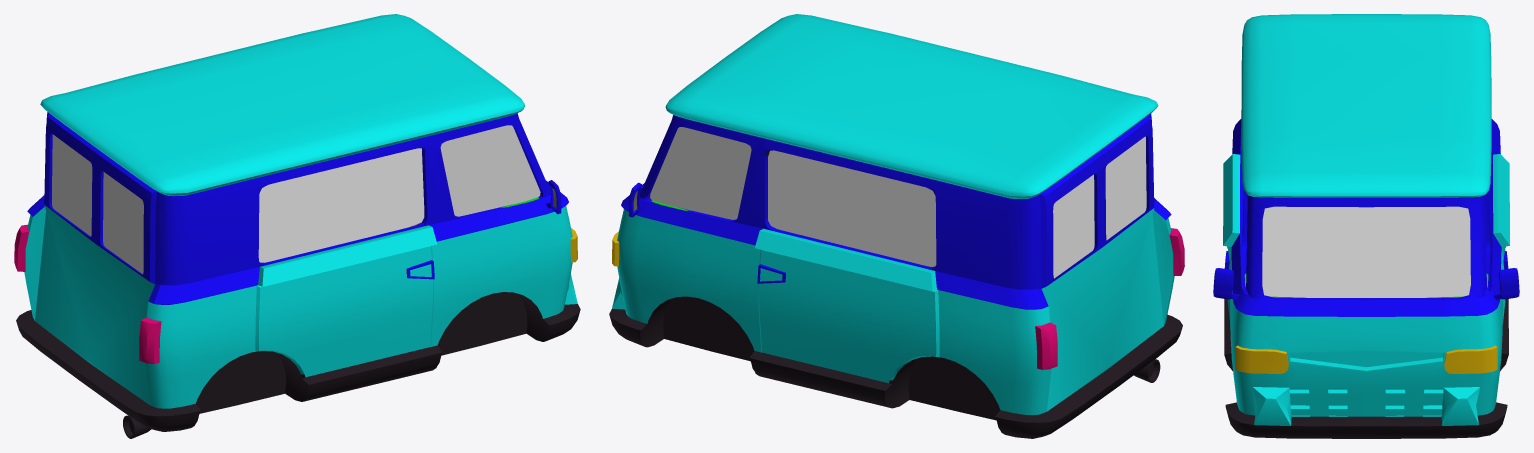
File: vanww.fbx
The picture shows the model from 3 angles, left to right: view 1: azimuth 30°, elevation 25°; view 2: azimuth 150°, elevation 25°; view 3: azimuth 270°, elevation 25°; orthographic projection. The views are drawn at different scales.
Parts seen in each view (by area): view 1: Van.002; view 2: Van.002; view 3: Van.002.
Part boxes in pixels (box(x1,y1,x2,y2)): Van.002: box(14, 14, 580, 438); Van.002: box(609, 14, 1184, 438); Van.002: box(1213, 14, 1519, 438).
Bounding box in the file's own units: 798 × 455 × 491.
